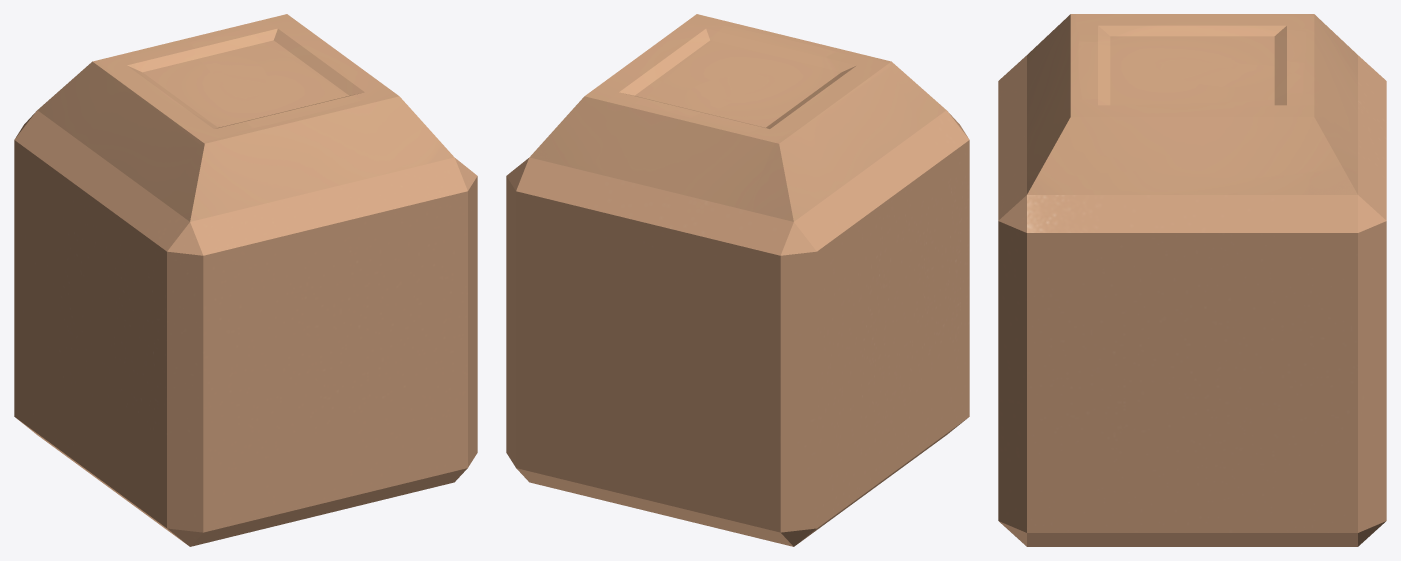
File: chocolate.fbx
3 views of the same model, side by side, from view 1: azimuth 30°, elevation 25°; view 2: azimuth 150°, elevation 25°; view 3: azimuth 270°, elevation 25° (orthographic). The views are drawn at different scales.
Parts seen in each view (by area): view 1: pCube2; view 2: pCube2; view 3: pCube2.
Part boxes in pixels (x1=…): pCube2: x1=14, y1=14, x2=477, y2=546; pCube2: x1=506, y1=14, x2=969, y2=546; pCube2: x1=998, y1=14, x2=1386, y2=546.
Size of the model in its own units: 1 by 1.17 by 1.
1 material, 1 textured.
